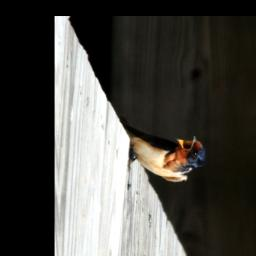Swallow: (127, 127, 209, 184)
